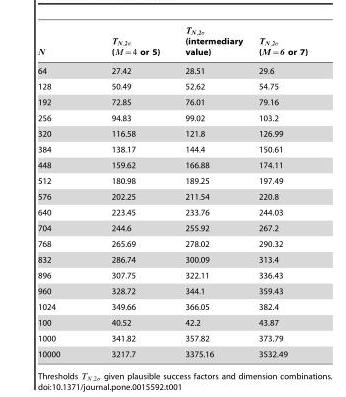table: (37, 36, 307, 358)
table column: (85, 36, 171, 358), (171, 36, 250, 358), (250, 36, 307, 358), (37, 36, 85, 358)
table column header: (37, 36, 307, 61)
table row: (37, 36, 307, 61), (37, 61, 307, 78), (37, 78, 307, 94), (37, 109, 307, 125), (37, 125, 307, 141), (37, 141, 307, 157), (37, 172, 307, 188), (37, 188, 307, 204), (37, 204, 307, 220), (37, 235, 307, 251), (37, 251, 307, 267), (37, 267, 307, 283), (37, 298, 307, 314), (37, 314, 307, 330), (37, 330, 307, 346), (37, 94, 307, 109), (37, 157, 307, 172), (37, 220, 307, 235), (37, 283, 307, 298), (37, 346, 307, 358)
